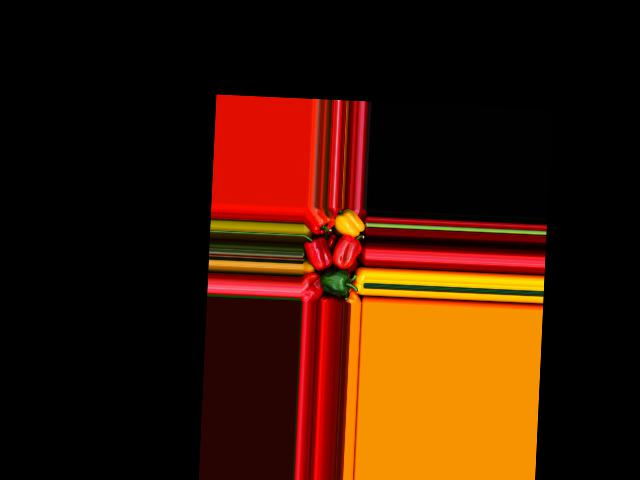bell_pepper: (331, 208, 367, 239)
